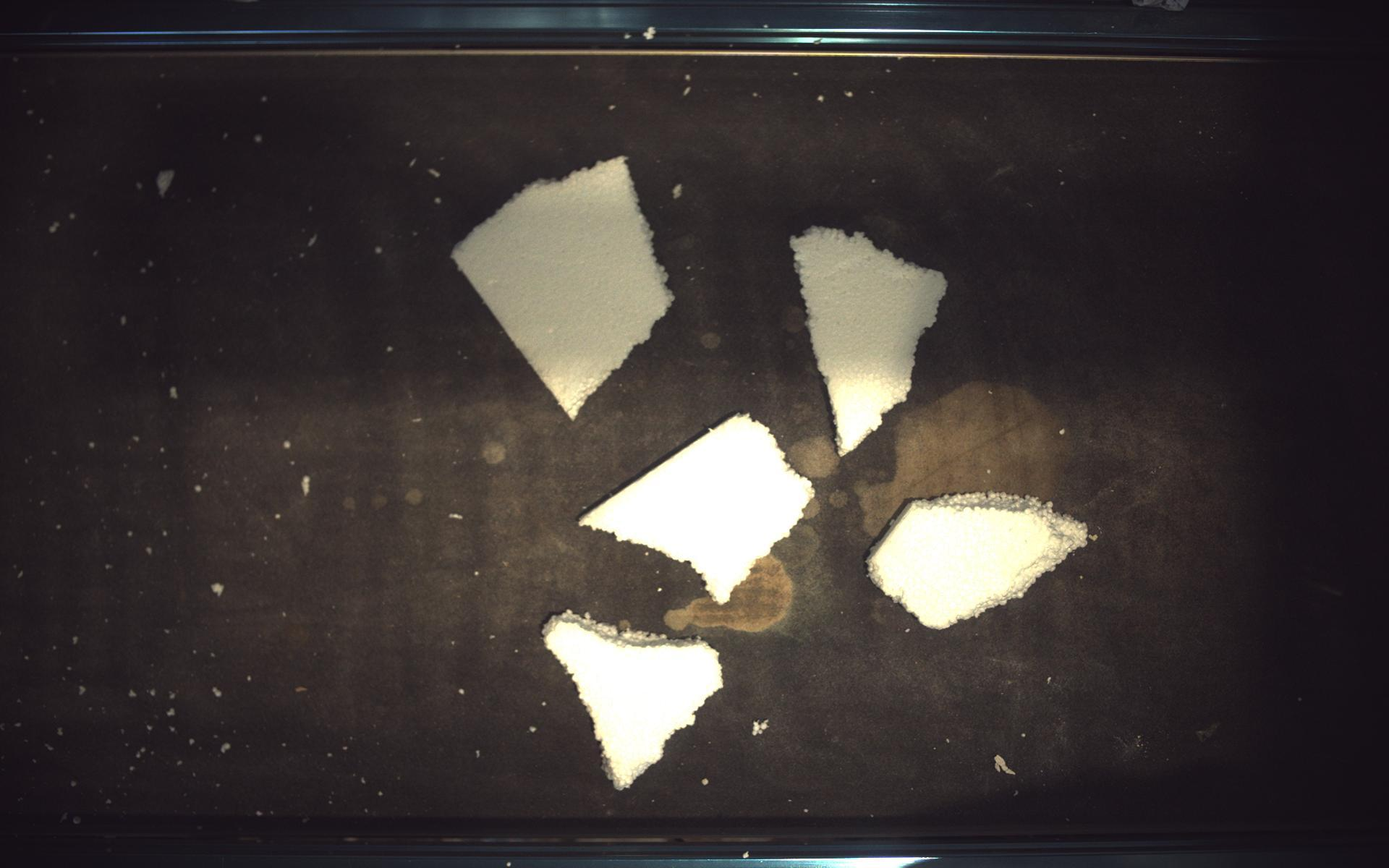foam: (452, 156, 674, 419), (580, 414, 815, 604), (791, 226, 949, 456), (543, 612, 723, 791), (868, 493, 1090, 629)
